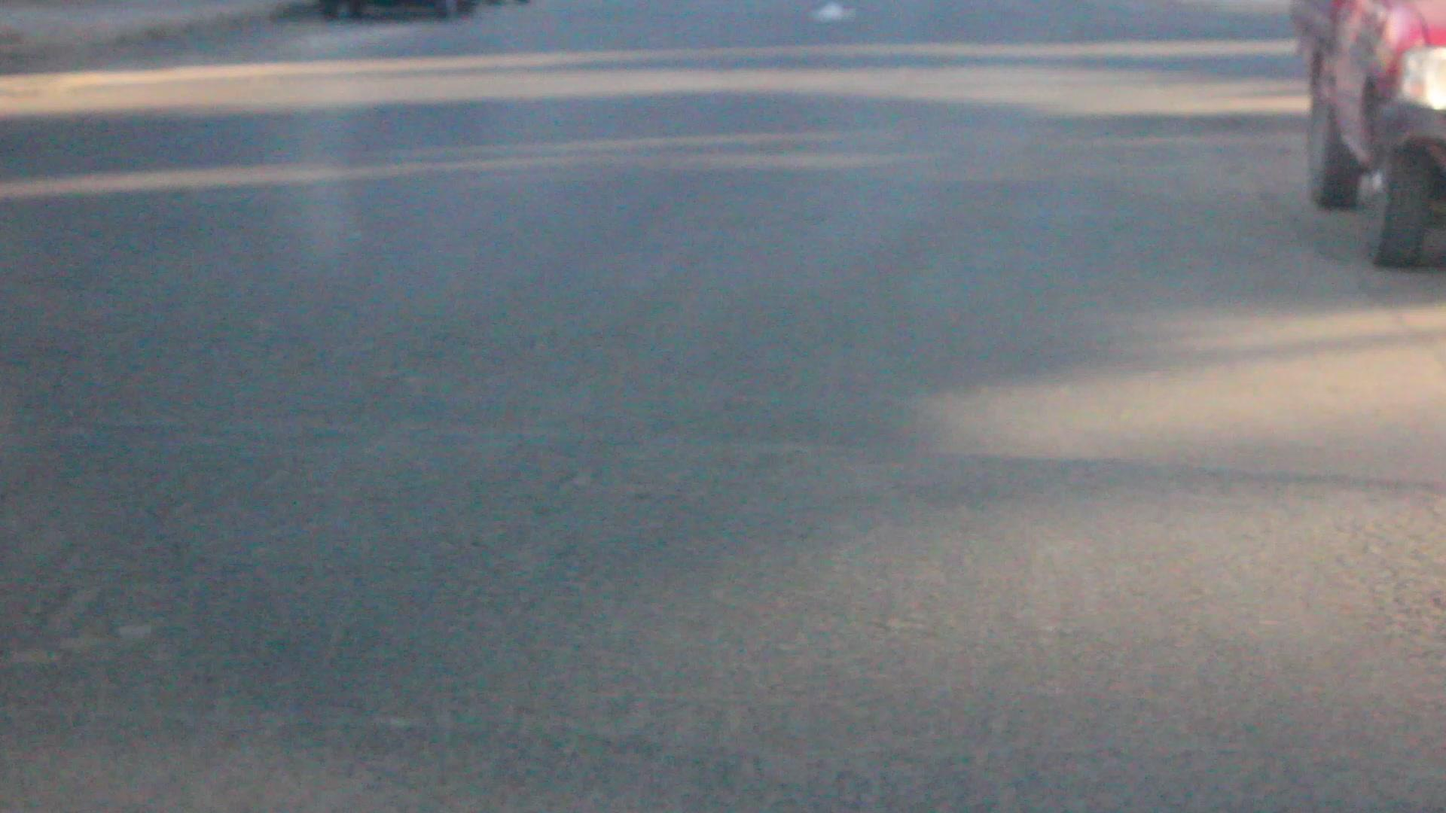Bump: (0, 406, 1446, 775)
